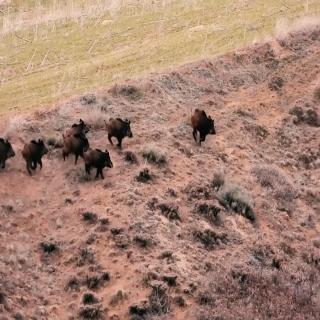Pig: (59, 121, 90, 166), (188, 101, 214, 146), (106, 114, 138, 150), (84, 146, 116, 180), (22, 138, 49, 178), (64, 112, 92, 138), (0, 126, 15, 172)
